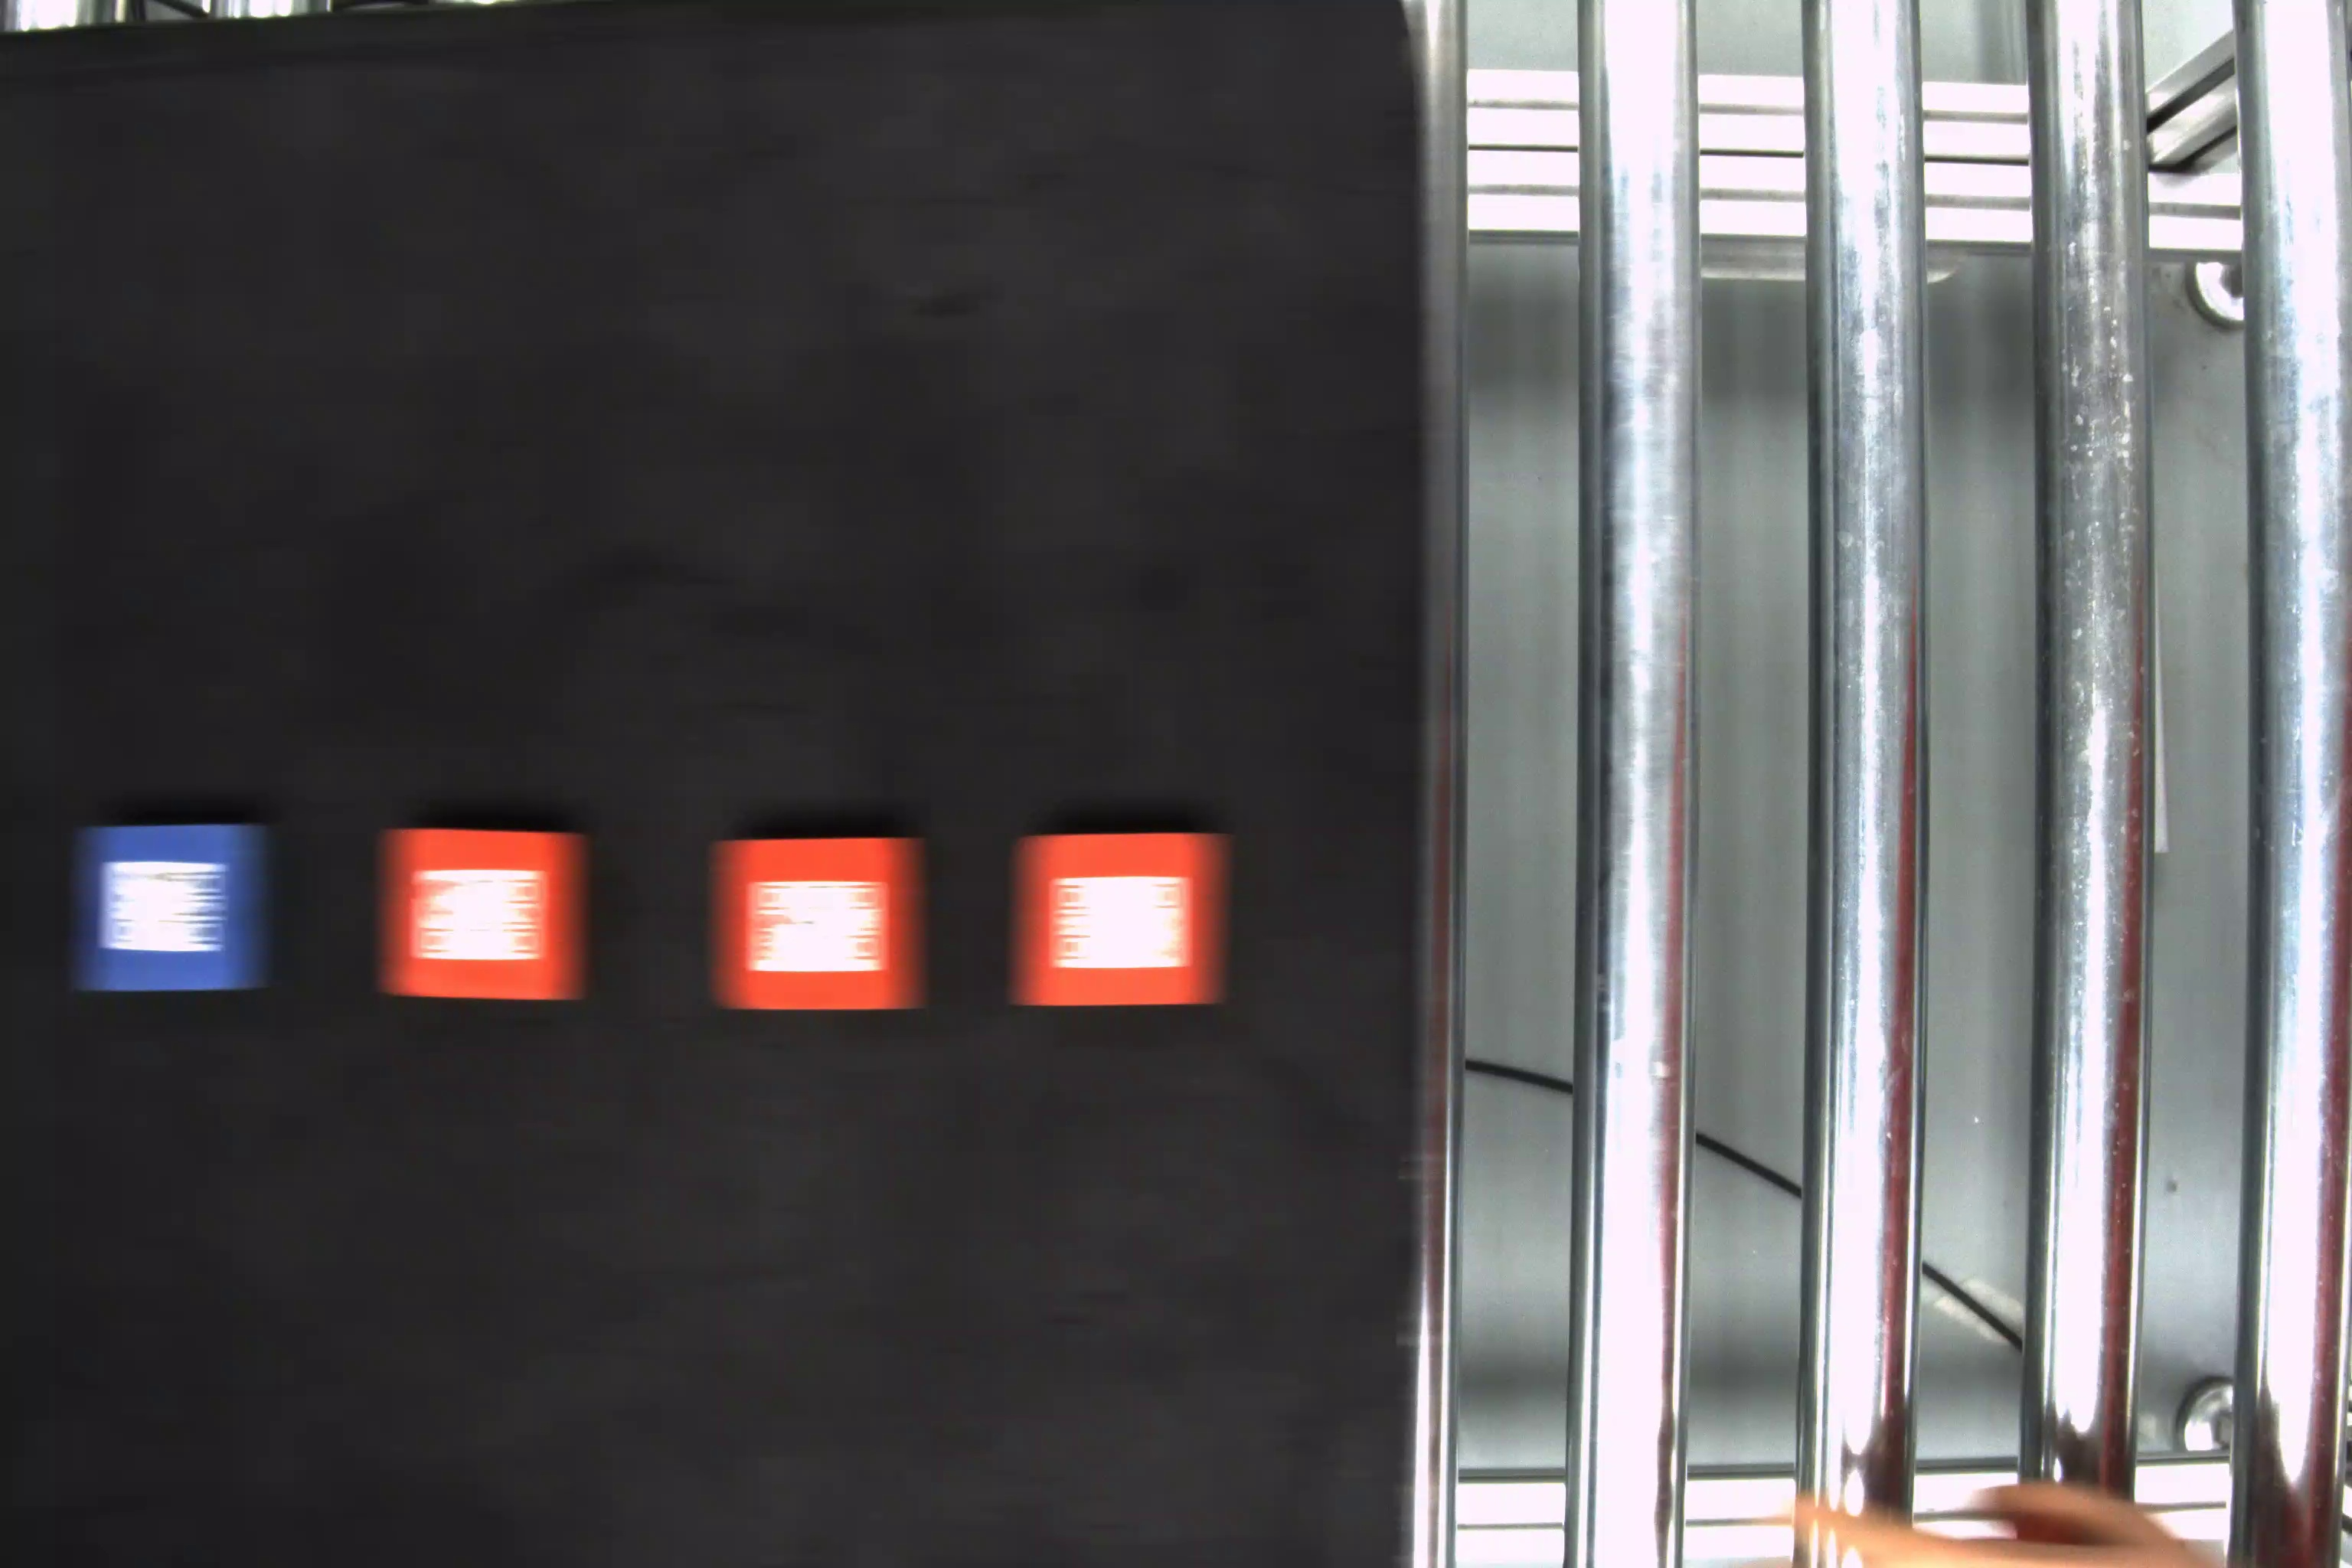wood: (380, 822, 602, 1015), (1011, 835, 1239, 1013), (716, 836, 936, 1018), (73, 822, 276, 1006)
